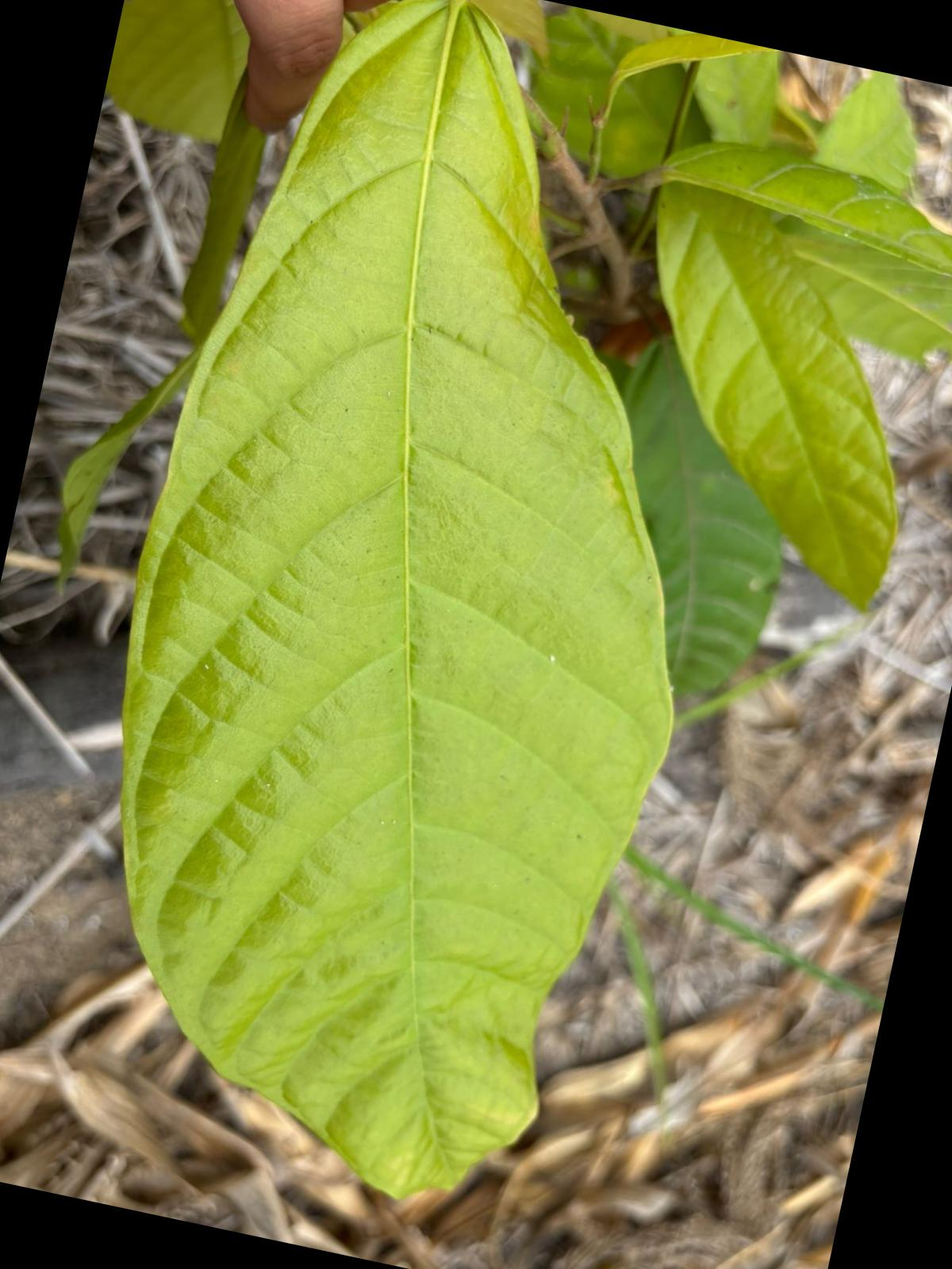Nitrogeno: (122, 0, 670, 1195), (657, 187, 896, 607)
